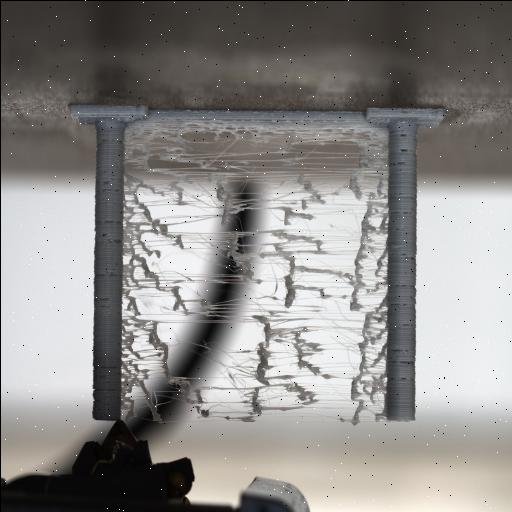stringing: (116, 145, 352, 424)
